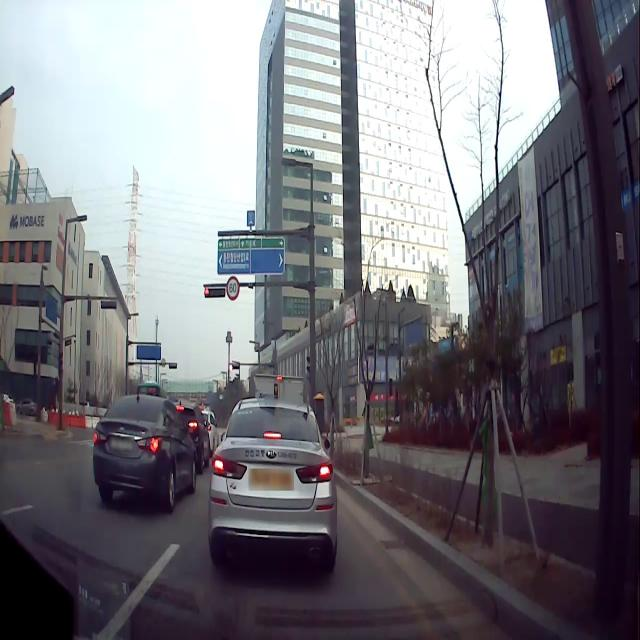Red Light: (204, 284, 210, 298), (229, 364, 233, 371)
